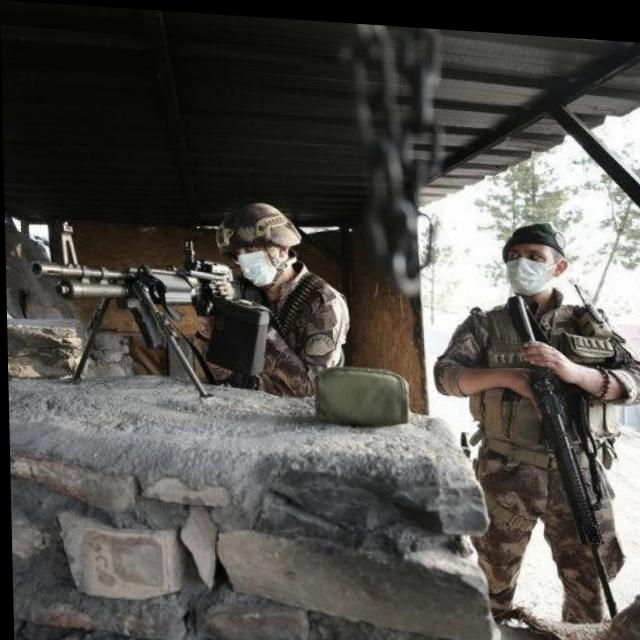poh_personel: (430, 208, 640, 619), (205, 192, 349, 395)
